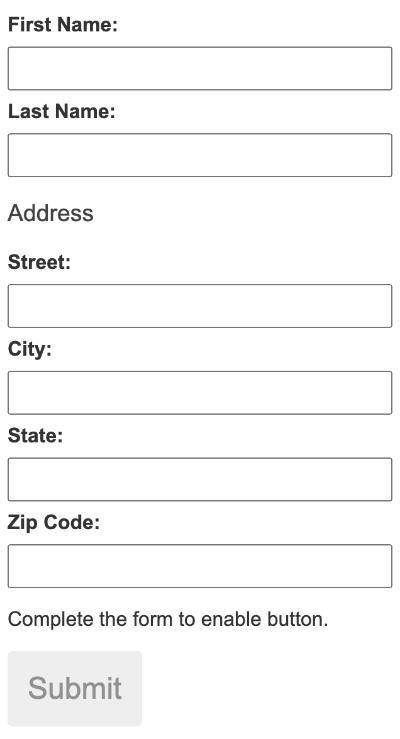button: (8, 651, 143, 727)
input: (9, 285, 393, 330), (9, 48, 394, 91), (9, 459, 394, 502), (8, 546, 393, 589), (10, 134, 393, 177), (10, 373, 394, 415)
label: (7, 10, 128, 40), (2, 101, 122, 127), (4, 200, 102, 231), (5, 508, 103, 538), (3, 423, 70, 454), (7, 251, 78, 279), (3, 338, 57, 368)
